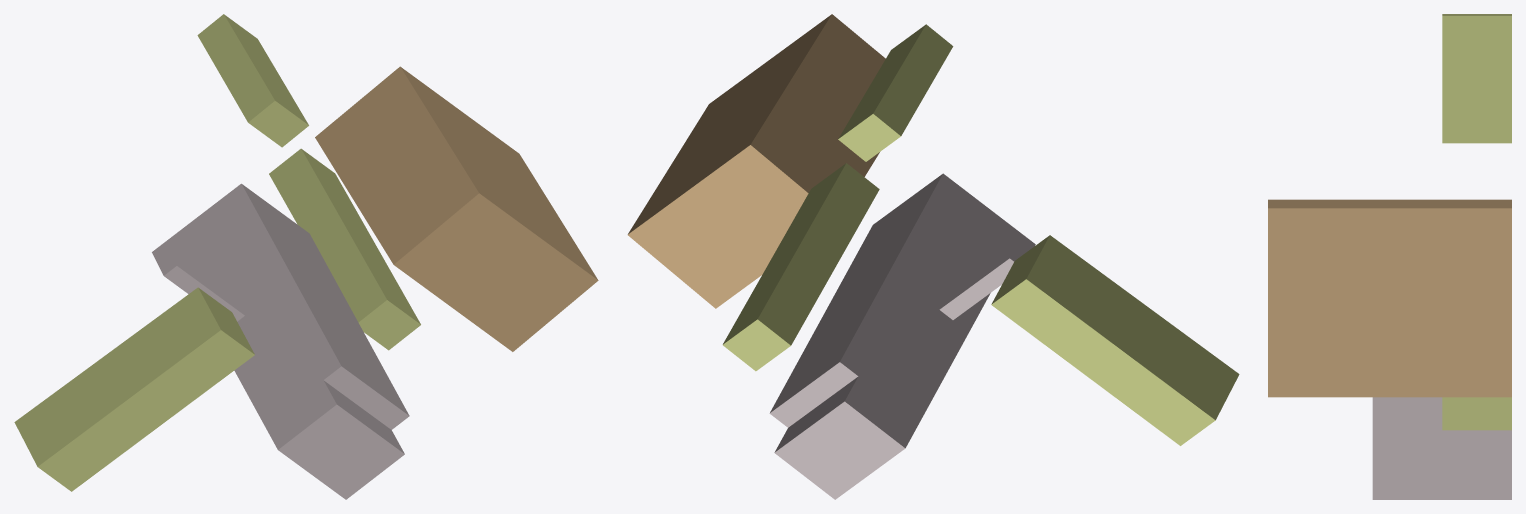
3 views of the same model, side by side, from view 1: azimuth 30°, elevation 25°; view 2: azimuth 150°, elevation 25°; view 3: azimuth 270°, elevation 25° (orthographic). The views are drawn at different scales.
Visible parts, largest first — view 1: 0_0_1_1_2_1_2_2_3; view 2: 0_0_1_1_2_1_2_2_3; view 3: 0_0_1_1_2_1_2_2_3.
Boxes of the visible parts, x1,y1,x2,y2 form: 0_0_1_1_2_1_2_2_3: [14, 14, 598, 499]; 0_0_1_1_2_1_2_2_3: [627, 14, 1239, 499]; 0_0_1_1_2_1_2_2_3: [1268, 14, 1511, 499].
Bounding box in the file's own units: 52.03 × 43.63 × 21.
